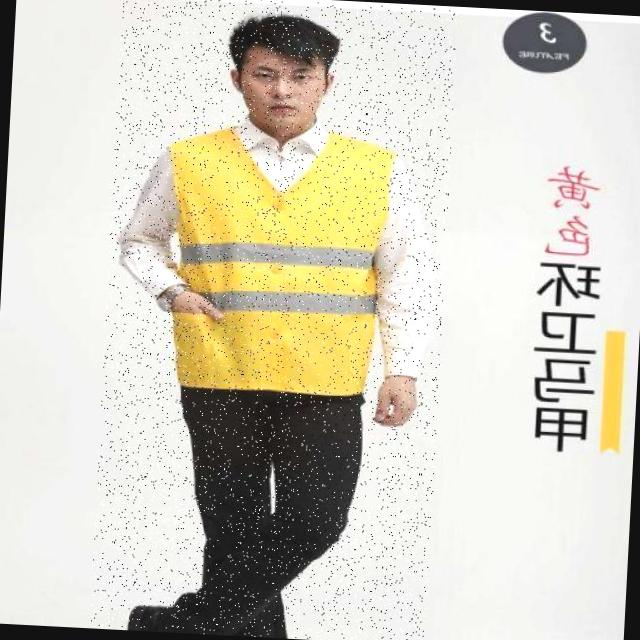vest: (158, 113, 396, 400)
